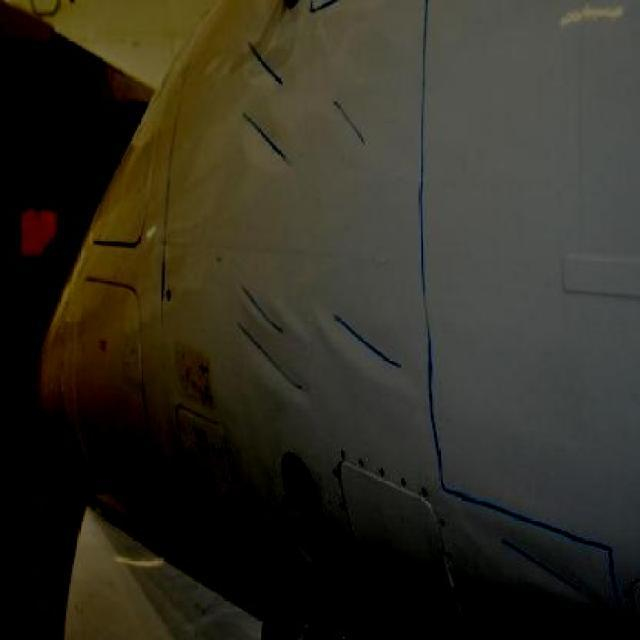dent: (476, 521, 598, 594), (241, 278, 310, 398), (327, 311, 407, 374), (249, 117, 290, 166), (255, 47, 292, 83), (337, 101, 366, 143)
